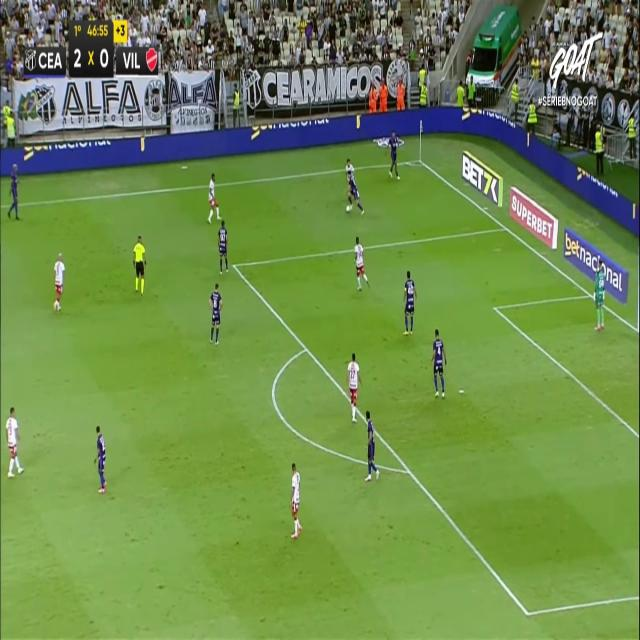ball: (344, 206, 349, 214)
goalkeeper: (593, 257, 606, 330)
player: (5, 406, 24, 477), (339, 152, 362, 203), (344, 157, 364, 215), (364, 410, 380, 481), (431, 328, 447, 398), (347, 352, 362, 422), (5, 163, 24, 218), (290, 461, 302, 539), (403, 270, 417, 335), (354, 236, 370, 291), (386, 131, 402, 186), (94, 425, 107, 492), (208, 282, 222, 344), (53, 252, 65, 312), (207, 172, 221, 223), (217, 219, 229, 274)
referee: (132, 235, 146, 295)
